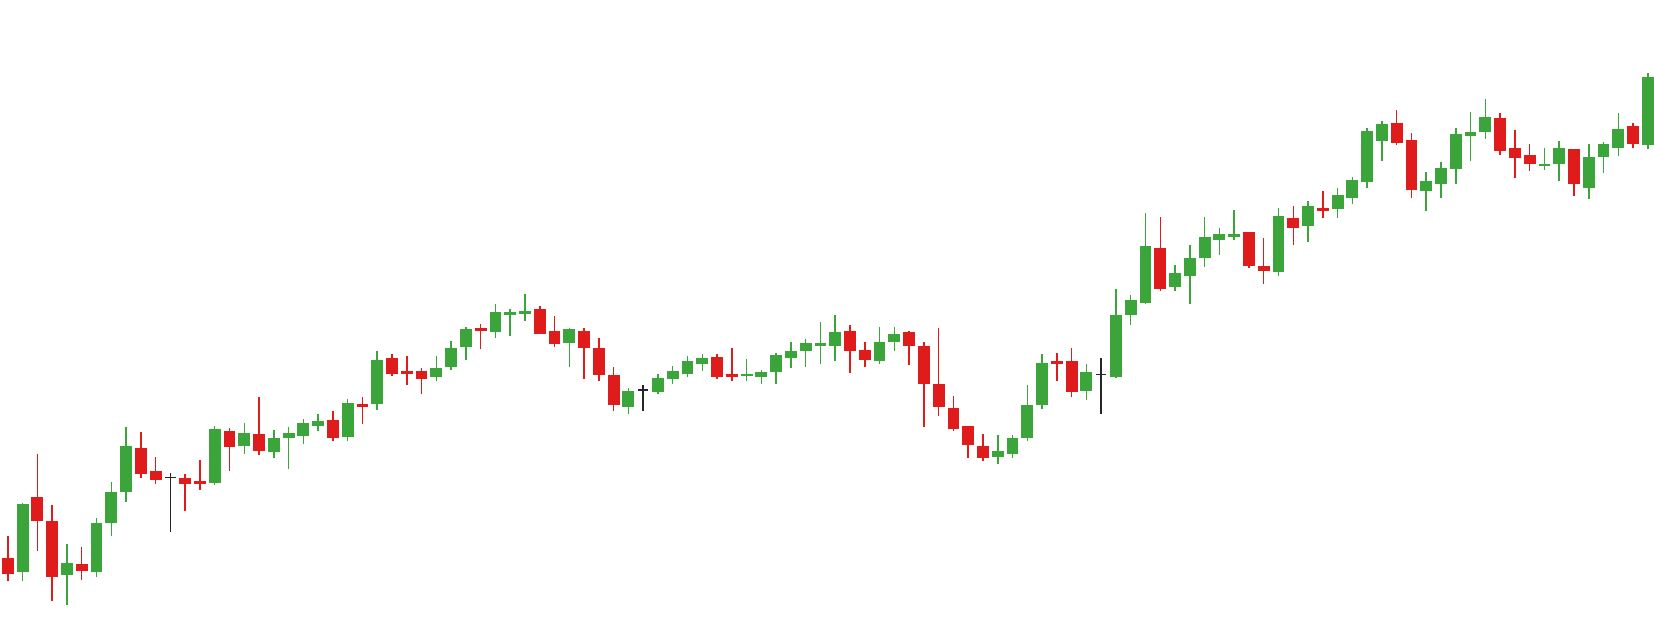buy: (1506, 138, 1598, 206)
